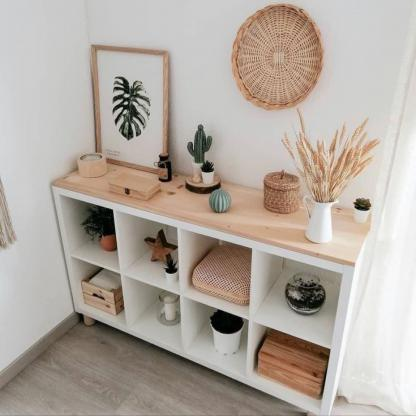lamp: (48, 154, 371, 416)
